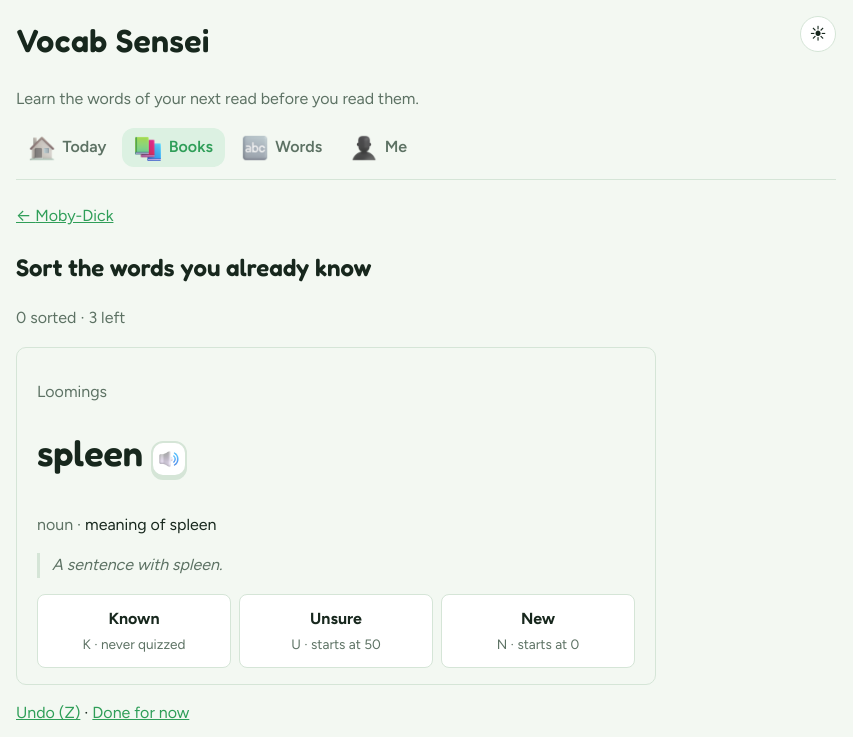
Scenario: sorting words › a click sorts the word and brings the next card
What coordinates should you click on to do the following:
click the button "Known K · never quizzed"
I would click on:
 (134, 631)
Its box is [37, 594, 231, 668].
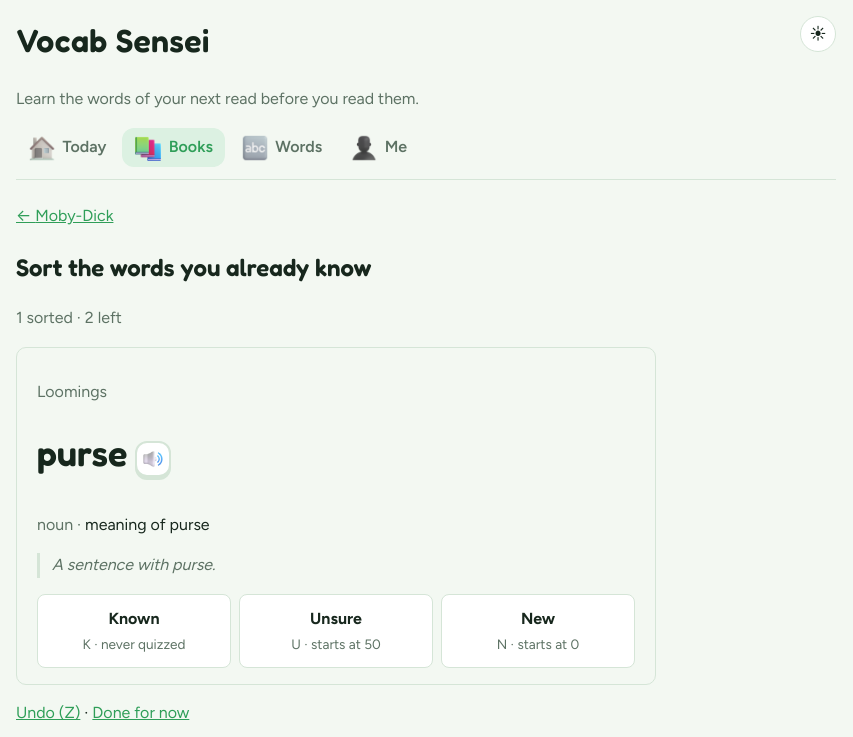
Expected: the heading "purse" is shown, [37, 425, 127, 481]
Expected: the text "1 sorted · 2 left" is shown, [16, 308, 122, 327]
